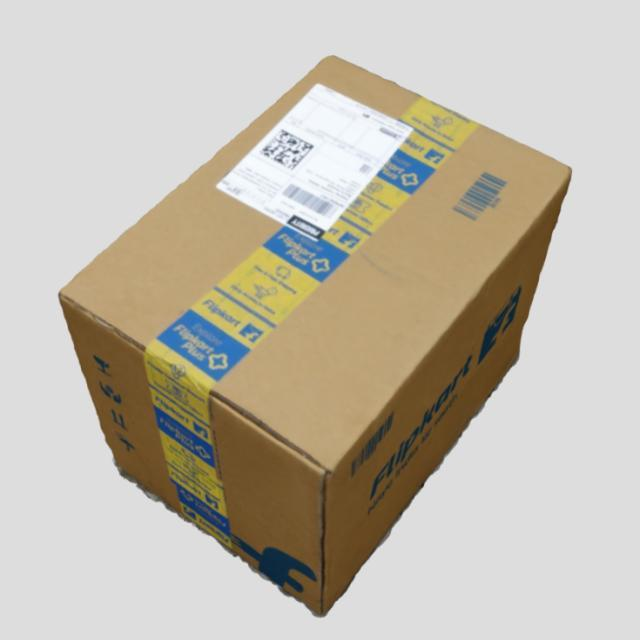cardboxes: (58, 56, 573, 619)
